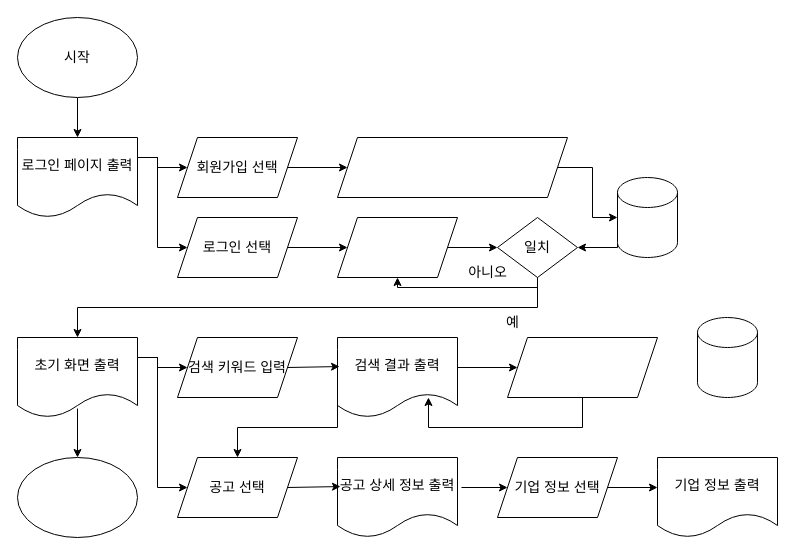
The diagram is 795 pixels wide and 555 high, and some of its shapes have lost their labels. The shapes that lost their labels are listed below. From the top down, each one's centre as x and y in pixels, then its label:
the point at 452,167: ID/ PIN/ 이메일/ 휴대폰 번호 입력
the point at 647,217: 회원 DB
the point at 397,247: ID/ PIN 입력
the point at 582,367: 검색 상세 키워드 선택
the point at 727,357: 기업 DB
the point at 77,497: 종료
